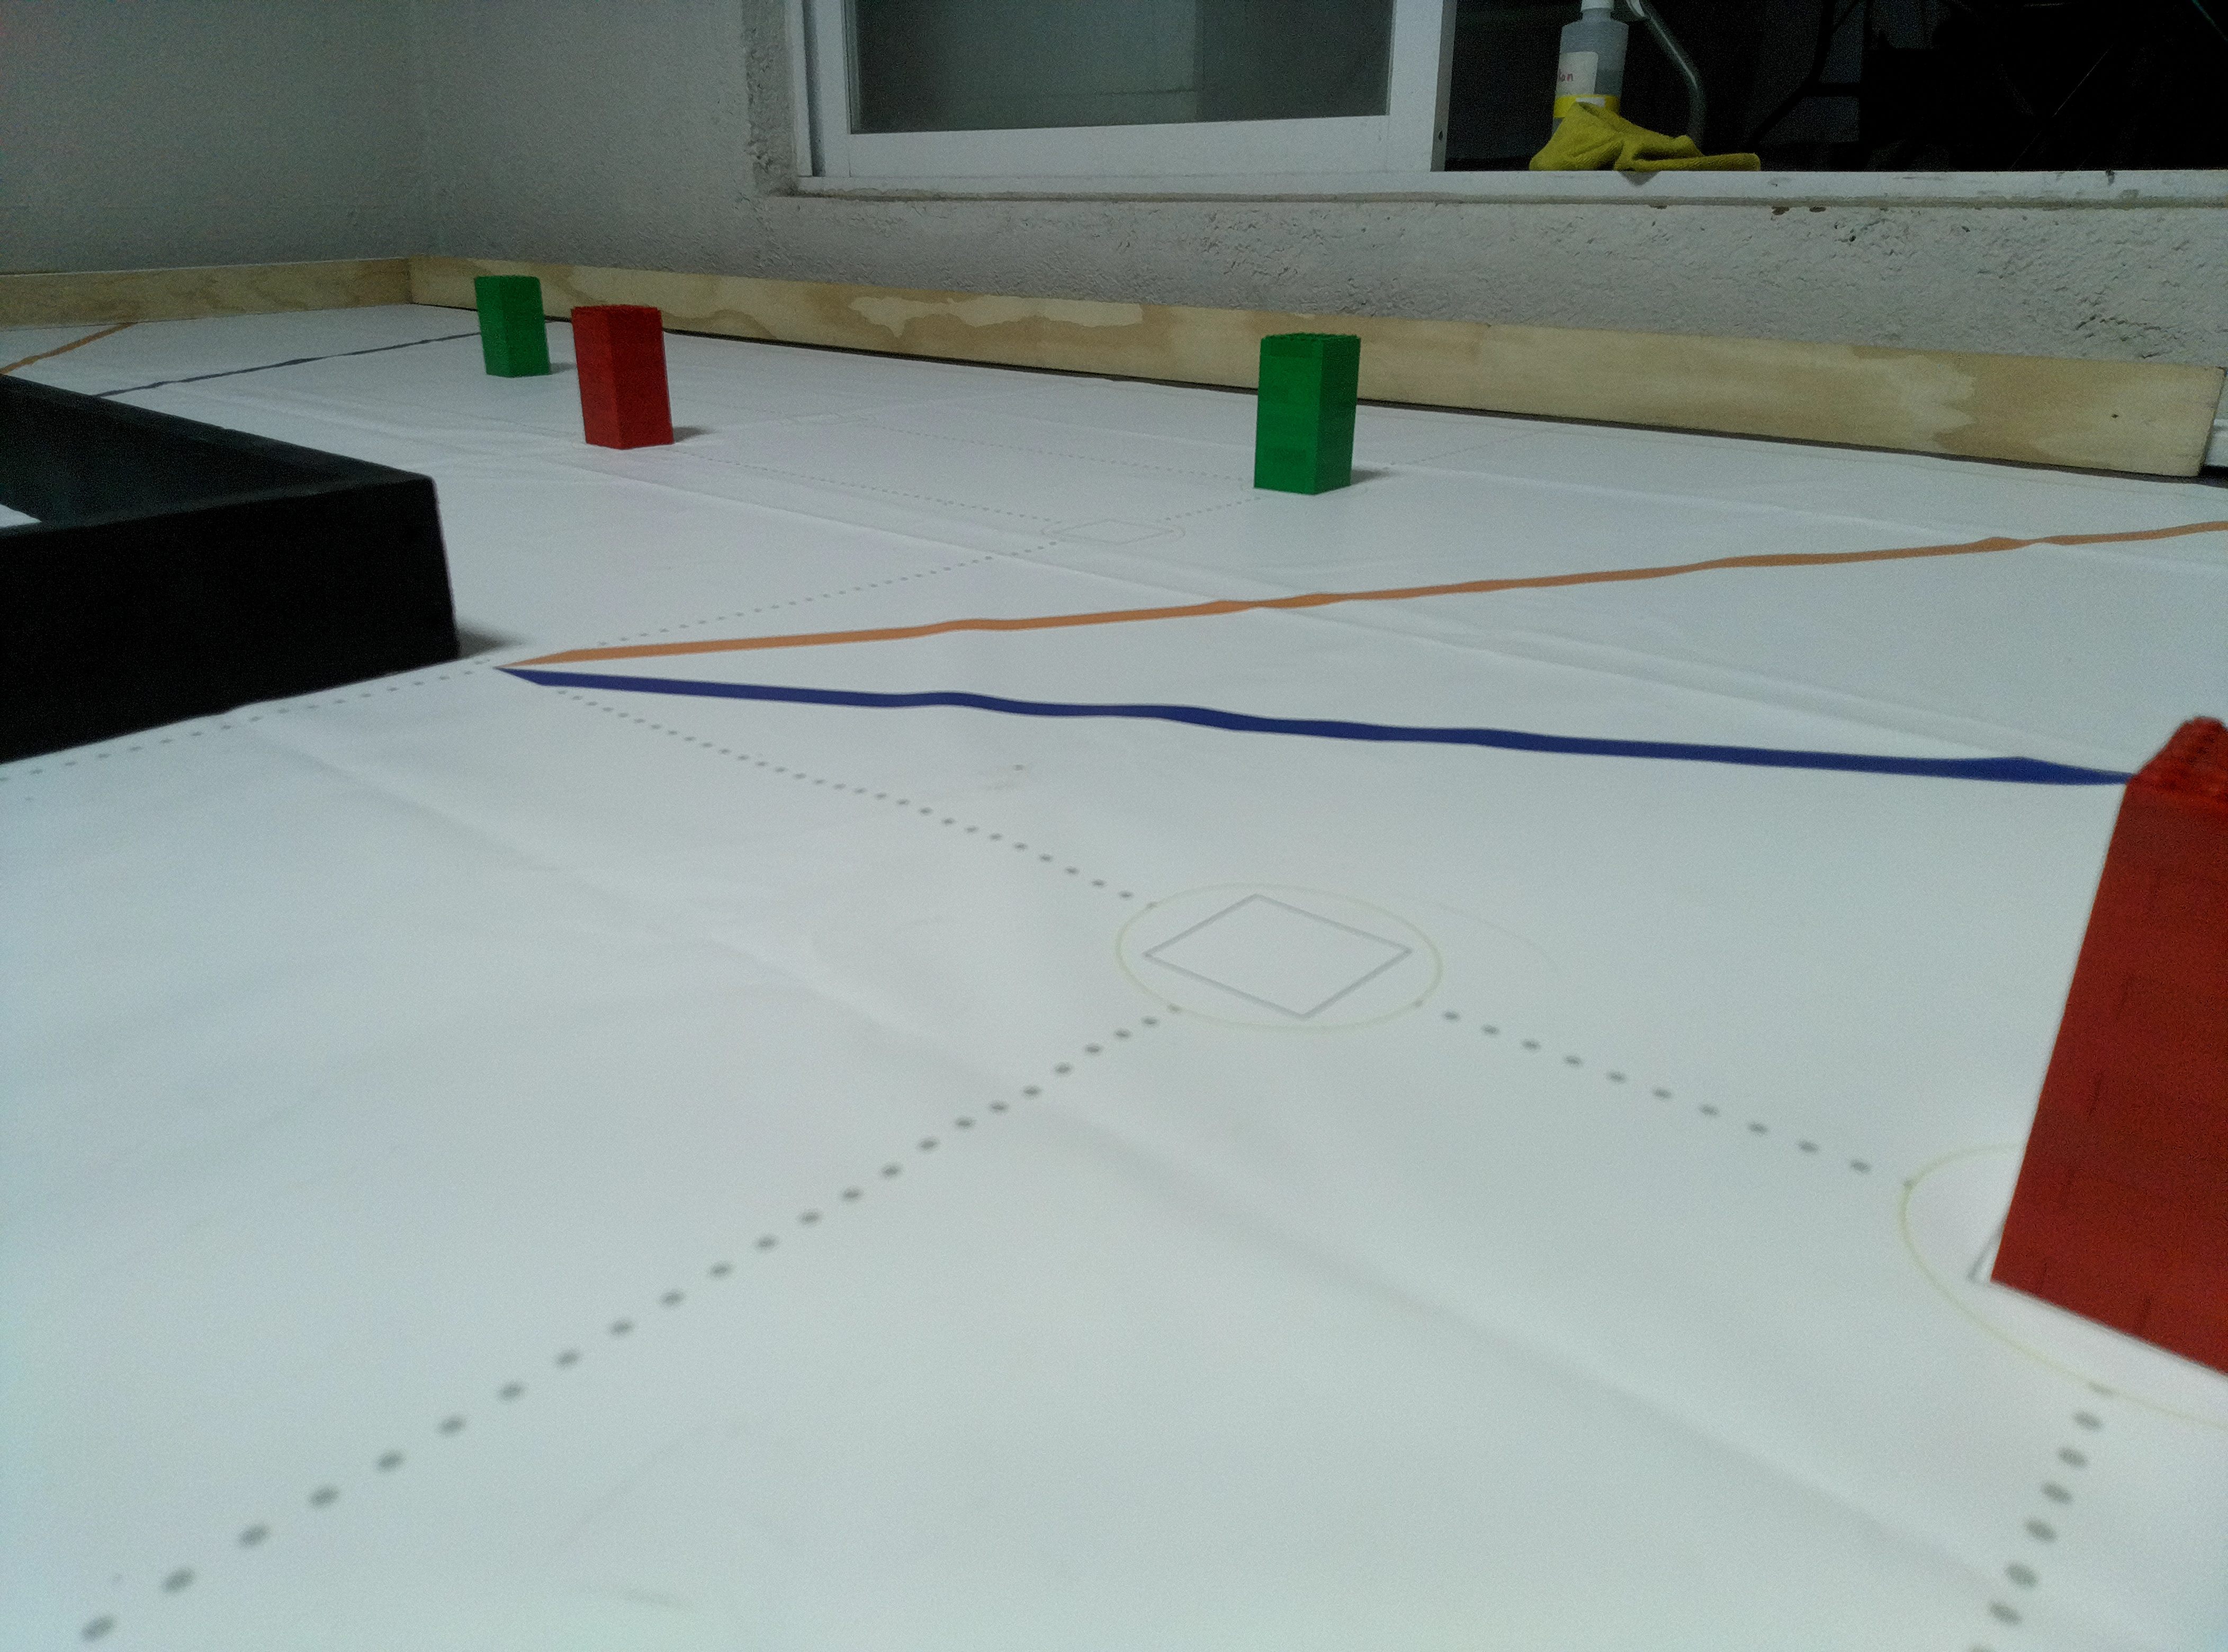greenbox: (1253, 330, 1362, 496), (472, 274, 555, 382)
redbox: (1963, 703, 2228, 1406), (566, 300, 678, 451)
